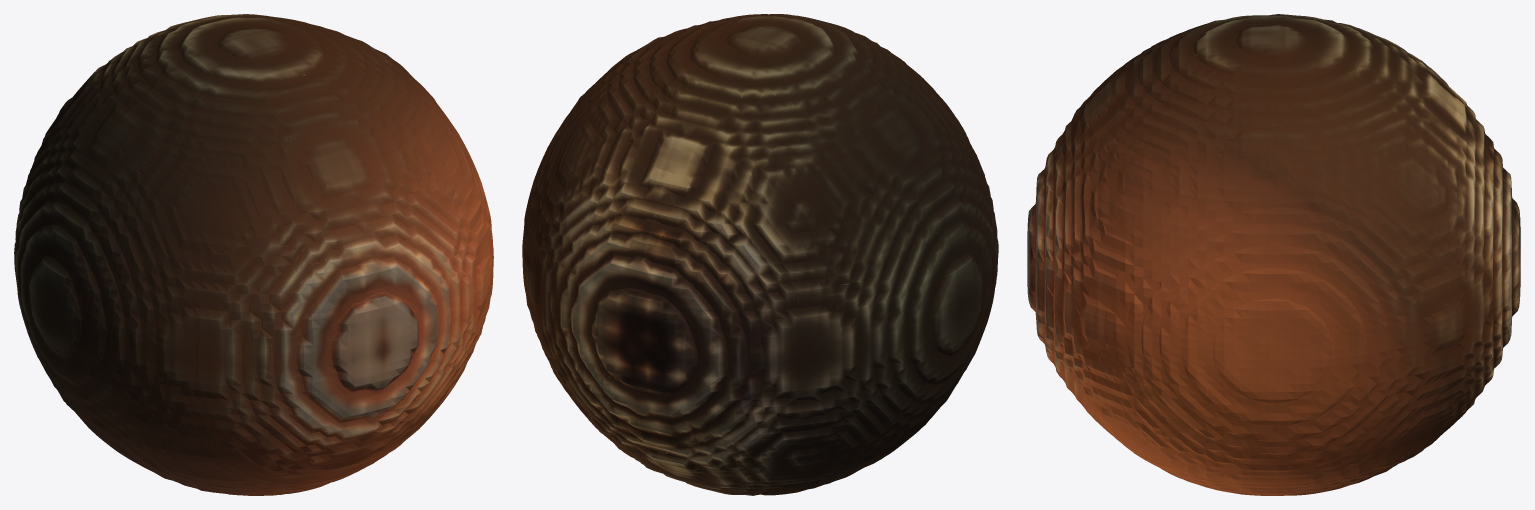
File: candidate.glb
The picture shows the model from 3 angles, left to right: view 1: azimuth 30°, elevation 25°; view 2: azimuth 150°, elevation 25°; view 3: azimuth 270°, elevation 25°; orthographic projection.
Visible parts, largest first — view 1: textured; view 2: textured; view 3: textured.
Boxes of the visible parts, <box> form: textured: <box>14,14,493,495</box>; textured: <box>522,14,998,495</box>; textured: <box>1027,14,1520,495</box>.
Bounding box in the file's own units: 0.7191 × 0.7386 × 0.7518.
Materials: 1 (1 with a texture image).
